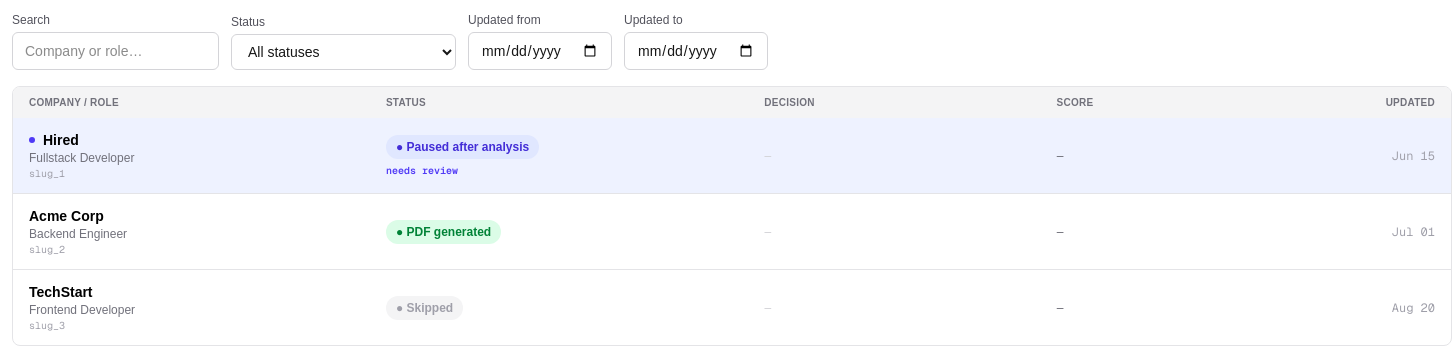
WorkspaceListFilters › Clear filters is absent initially, appears when a filter is set, and resets everything on click
This screenshot has width=1452, height=363.
Check: the button "Clear filters" is not shown
Type "hired" into the field labelled "Search".
click(116, 51); type("hired")  # box top-left (12, 32), bottom-right (219, 70)
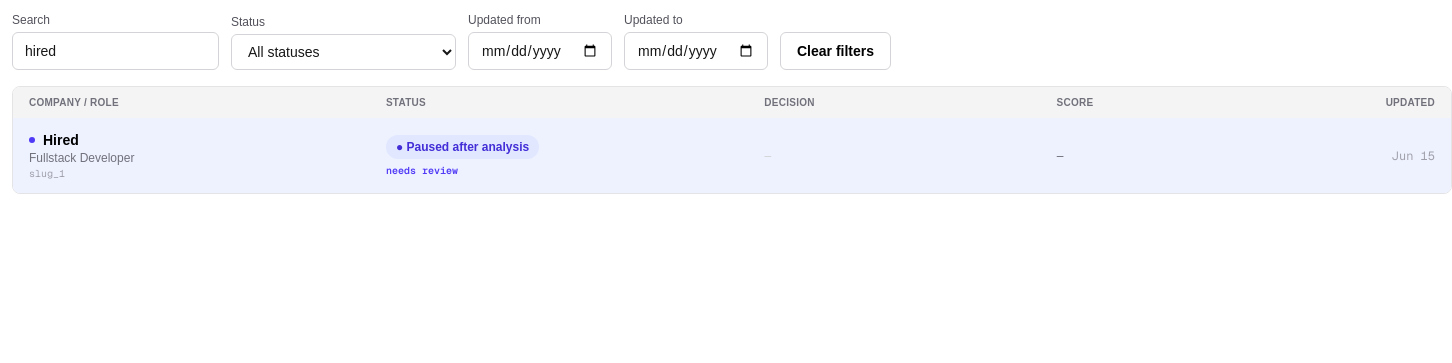
Check: the button "Clear filters" is shown
Click the button "Clear filters".
click(836, 51)  # box top-left (780, 32), bottom-right (891, 70)
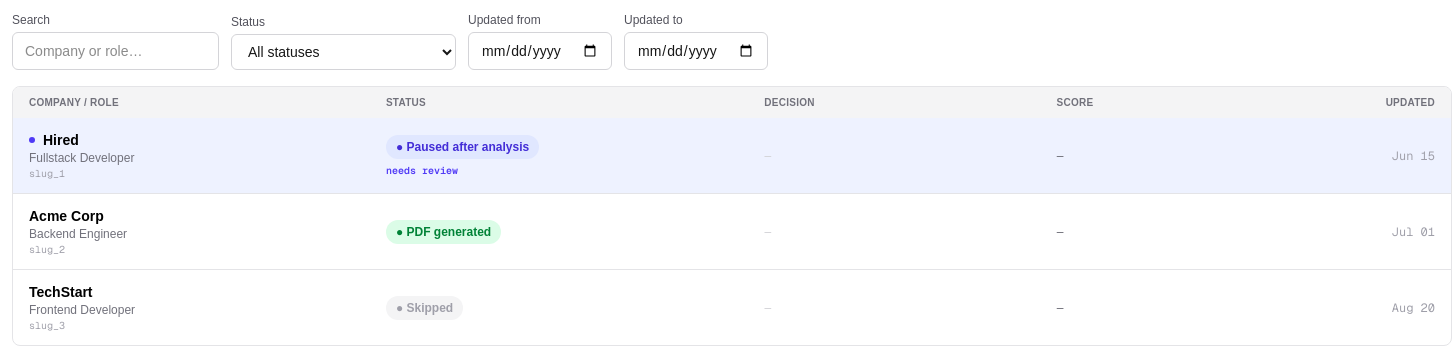
Check: the link "Hired" is shown, box top-left (43, 130), bottom-right (79, 150)
Check: the link "Acme Corp" is shown, box top-left (29, 206), bottom-right (104, 226)
Check: the button "Clear filters" is gone
